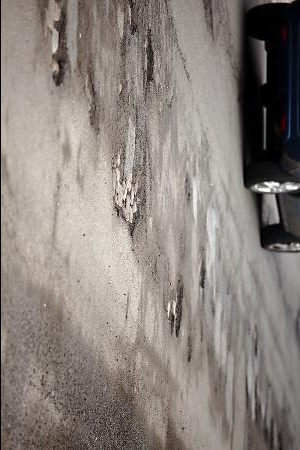pothole: (108, 148, 144, 237), (43, 0, 74, 90), (161, 274, 184, 337), (114, 0, 138, 42), (141, 31, 156, 87), (199, 0, 216, 38), (197, 255, 206, 290)
